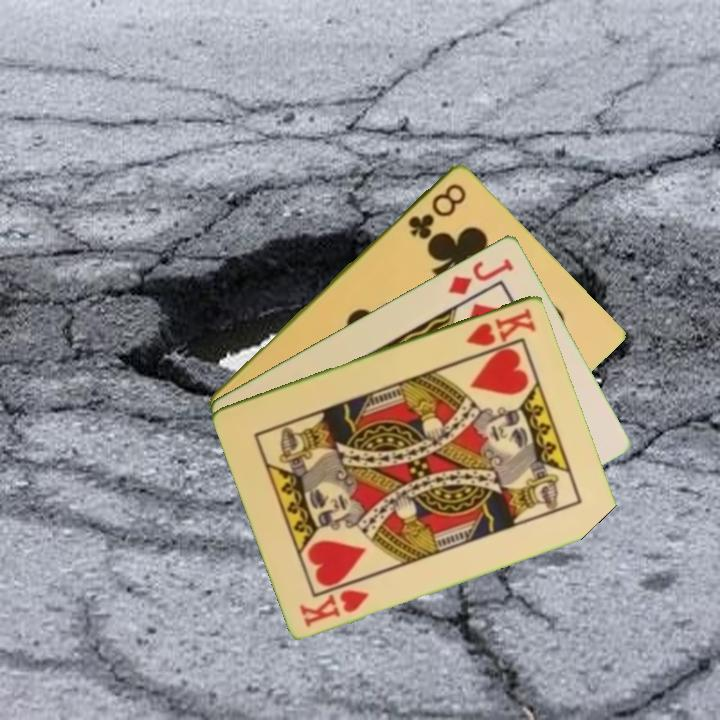8c: (404, 179, 470, 242)
Jd: (445, 254, 517, 298)
Kh: (463, 303, 539, 349), (296, 585, 373, 630)
